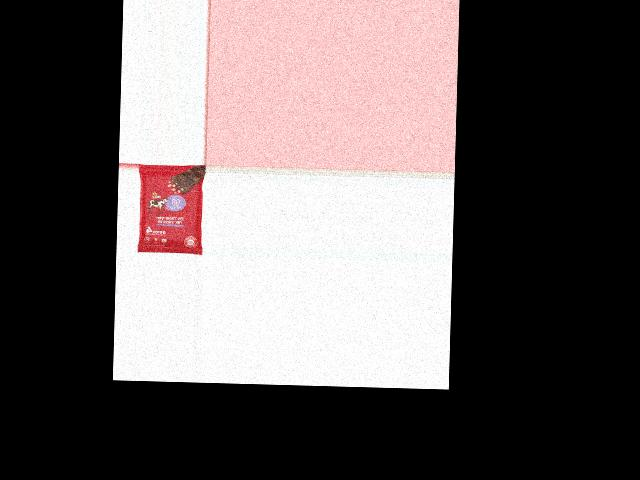chocolate: (136, 164, 203, 255)
